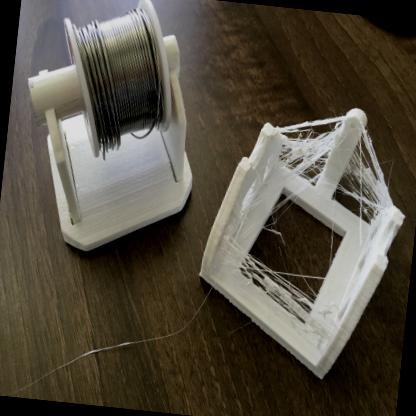fail: (281, 108, 340, 189), (344, 140, 402, 213)
